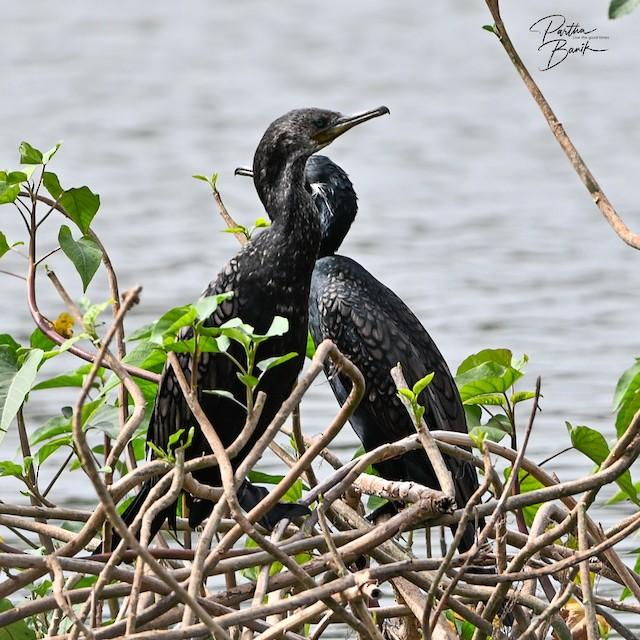cormorant: (142, 102, 388, 530), (226, 142, 492, 520)
